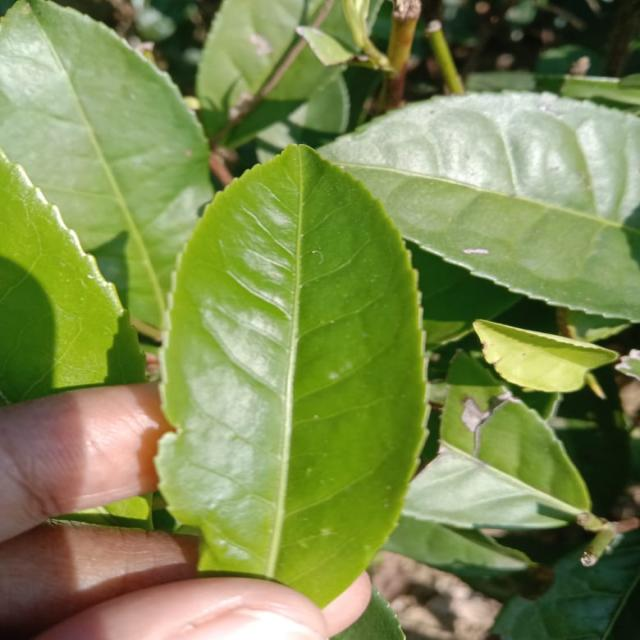Category B(2-4 days): (148, 135, 446, 622)
